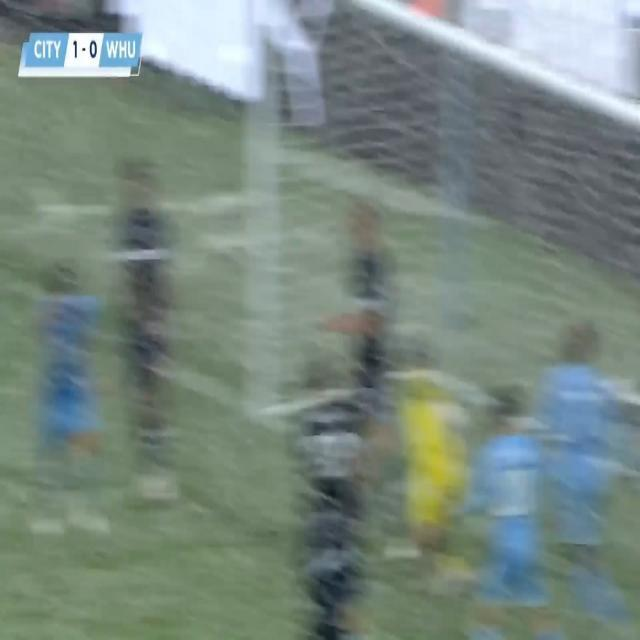goalkeeper: (370, 308, 465, 579)
player: (11, 229, 106, 559), (107, 154, 185, 545), (551, 318, 640, 640), (478, 381, 546, 640)
